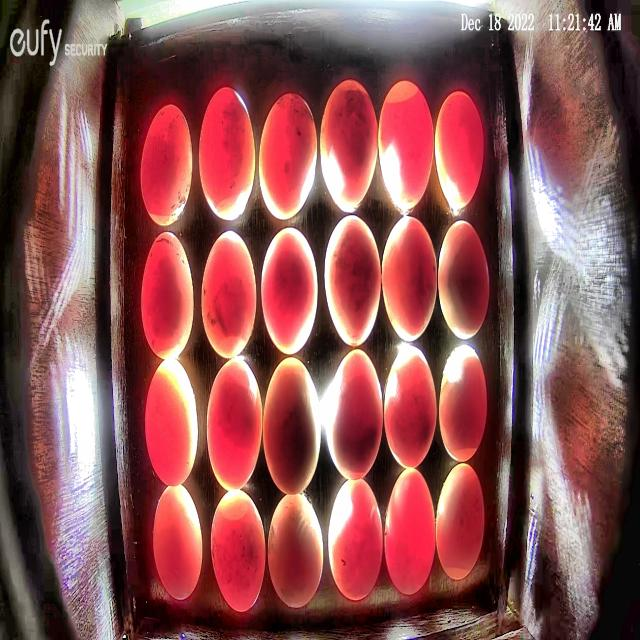FE: (318, 77, 379, 216), (263, 354, 322, 495), (198, 84, 256, 223), (204, 356, 263, 491), (325, 211, 382, 348), (257, 91, 317, 220), (261, 228, 319, 358), (328, 348, 385, 480), (381, 214, 439, 342), (200, 228, 257, 358), (379, 80, 435, 212), (142, 361, 200, 488), (209, 489, 266, 615), (328, 476, 384, 604), (140, 228, 193, 359), (383, 466, 436, 596), (139, 104, 193, 226), (384, 345, 436, 470), (267, 492, 323, 608), (437, 220, 491, 340), (152, 483, 203, 602), (434, 89, 484, 208), (436, 462, 485, 581), (438, 345, 487, 463)
